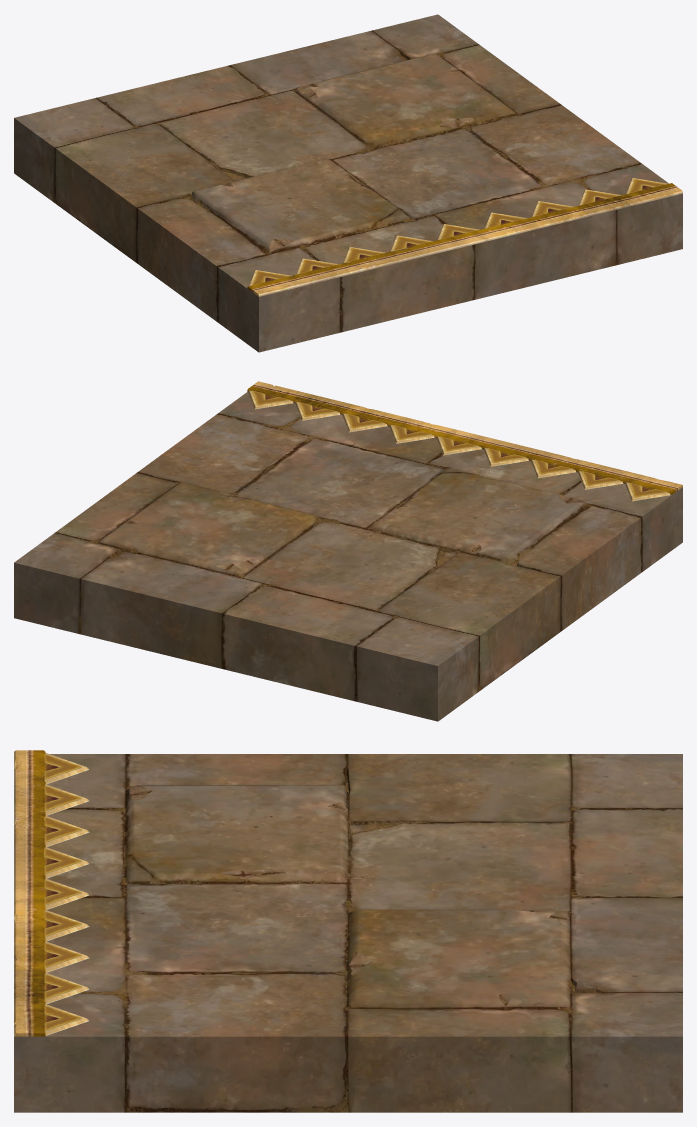
3 renders of one model, top to bottom at view 1: azimuth 30°, elevation 25°; view 2: azimuth 150°, elevation 25°; view 3: azimuth 270°, elevation 25°, orthographic. The views are drawn at different scales.
Parts seen in each view (by area): view 1: SM_Vault_4m_Floor_01_v3_LOD0; view 2: SM_Vault_4m_Floor_01_v3_LOD0; view 3: SM_Vault_4m_Floor_01_v3_LOD0.
Part boxes in pixels (box(x1,y1,x2,y2)): SM_Vault_4m_Floor_01_v3_LOD0: box(14, 14, 682, 352); SM_Vault_4m_Floor_01_v3_LOD0: box(14, 381, 682, 721); SM_Vault_4m_Floor_01_v3_LOD0: box(14, 750, 682, 1112).
Size of the model in its own units: 4 by 0.543 by 4.
Materials: 4 (4 with a texture image).
